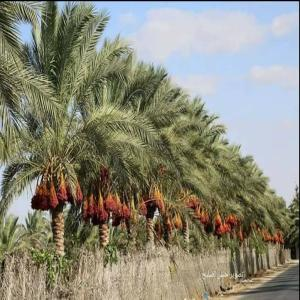palm tree: (0, 0, 148, 260)
